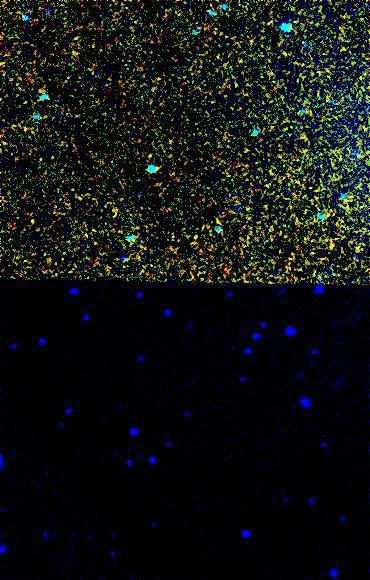star: (57, 33, 87, 63)
